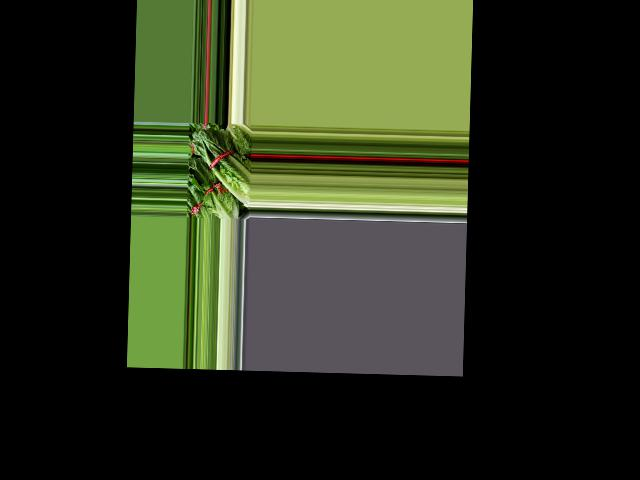lettuce: (189, 127, 252, 206)
